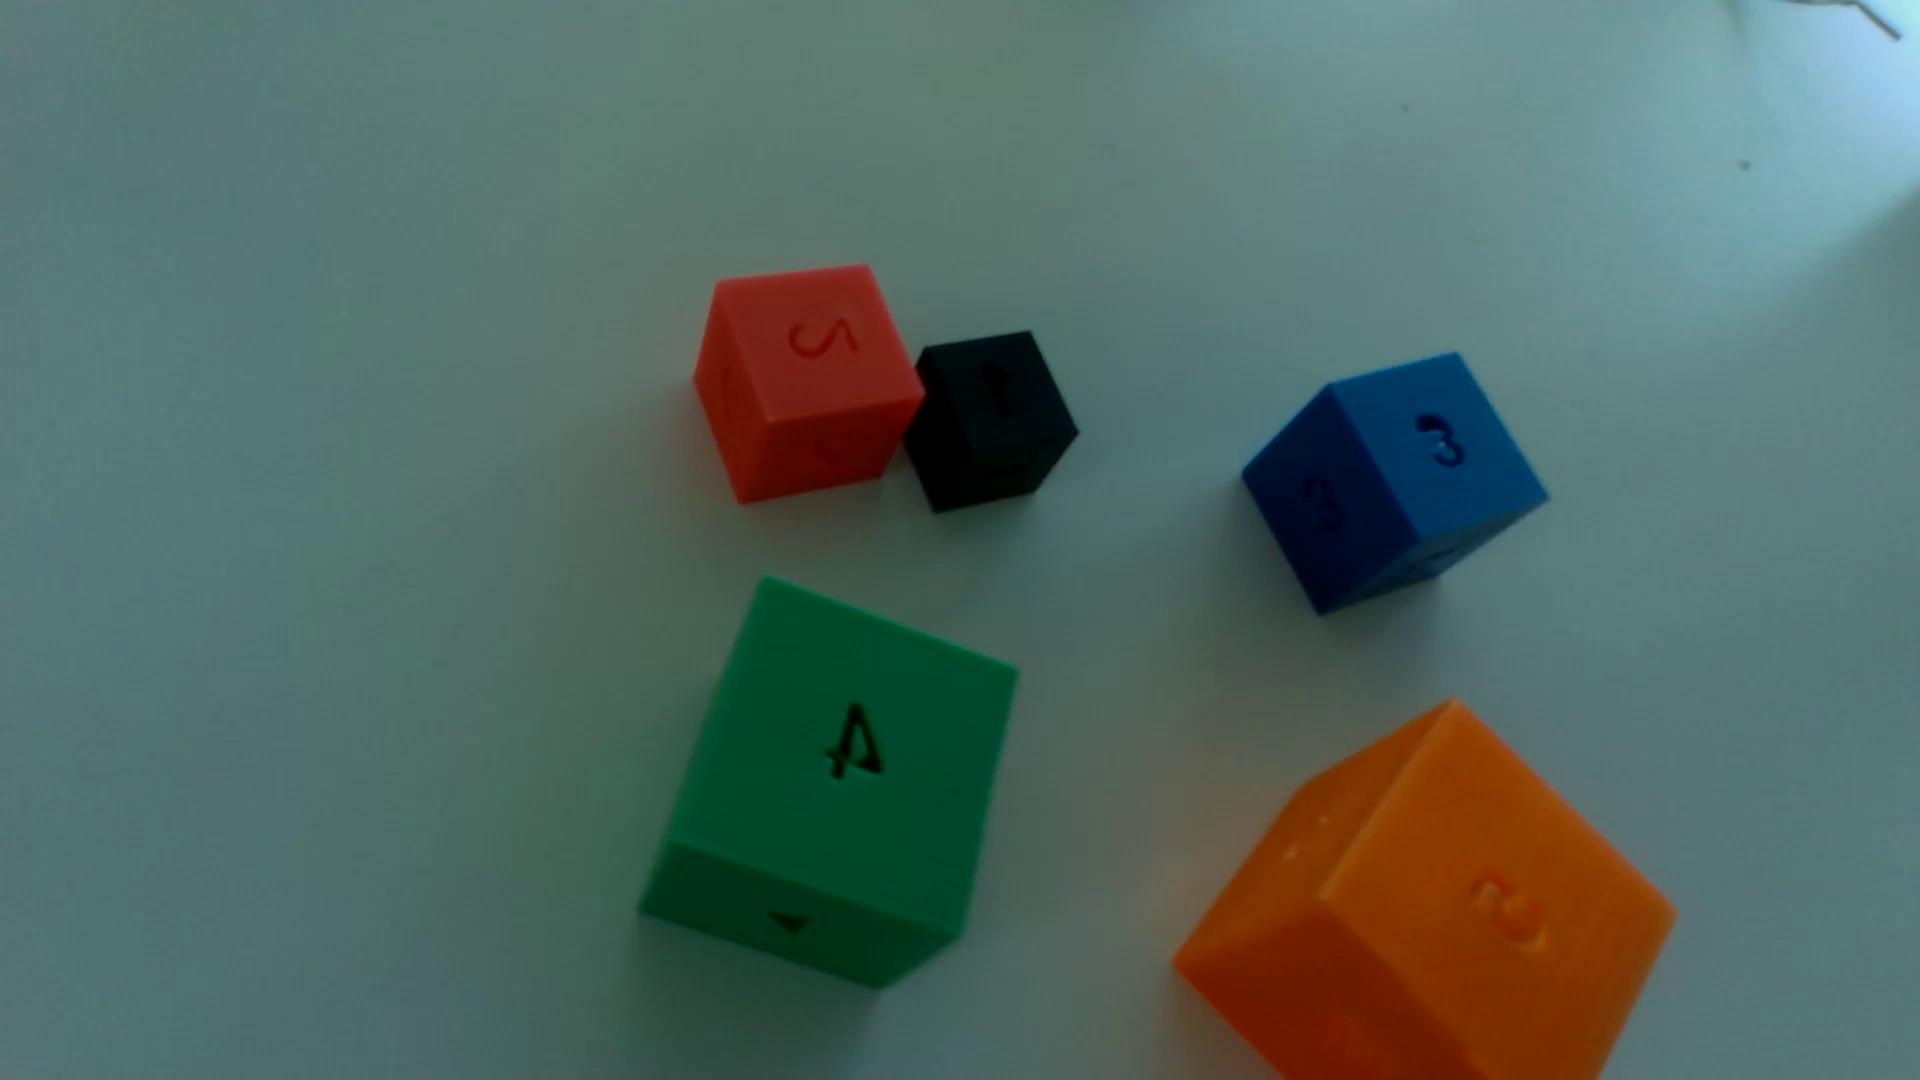black: (905, 332, 1077, 514)
blue: (1242, 353, 1548, 615)
green: (641, 579, 1015, 989)
orange: (1174, 702, 1675, 1080)
red: (694, 266, 924, 505)
